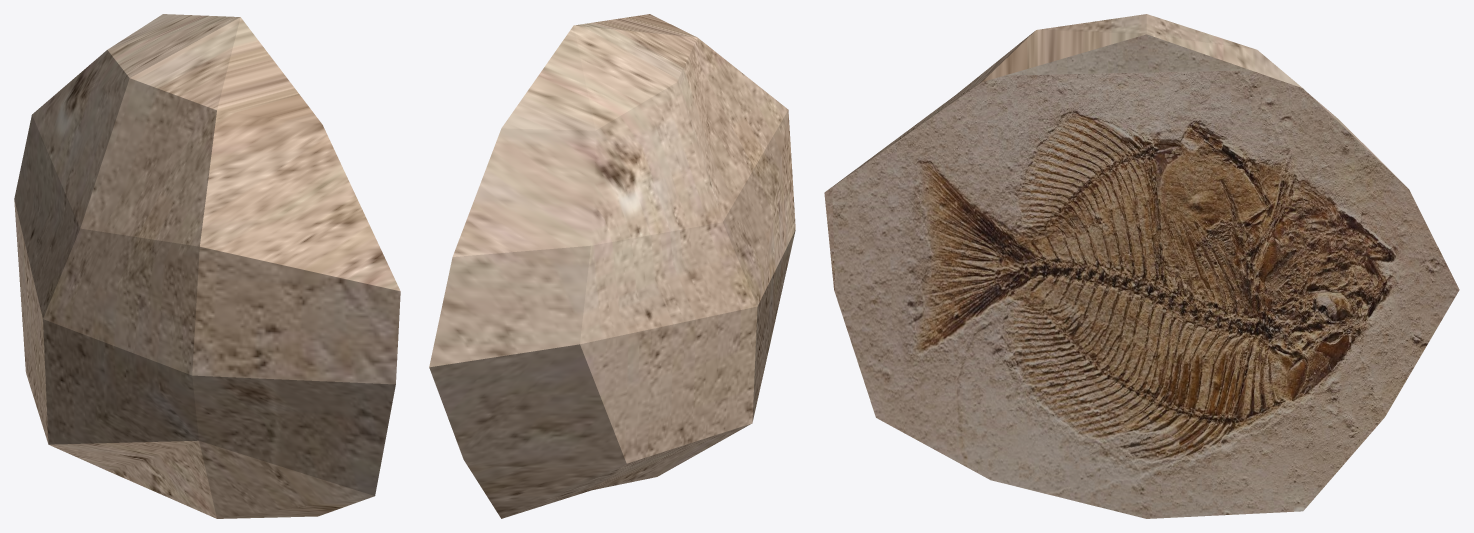
Rendered from fossil.fbx.
3 renders of one model, left to right at view 1: azimuth 30°, elevation 25°; view 2: azimuth 150°, elevation 25°; view 3: azimuth 270°, elevation 25°, orthographic. The views are drawn at different scales.
Visible parts, largest first — view 1: pSphere1; view 2: pSphere1; view 3: pSphere1.
Boxes of the visible parts, bbox=[...] form: pSphere1: bbox=[14, 14, 400, 518]; pSphere1: bbox=[429, 14, 795, 518]; pSphere1: bbox=[824, 14, 1459, 518].
Size of the model in its own units: 0.00916 by 0.0213 by 0.0253.
Materials: 1 (1 with a texture image).
